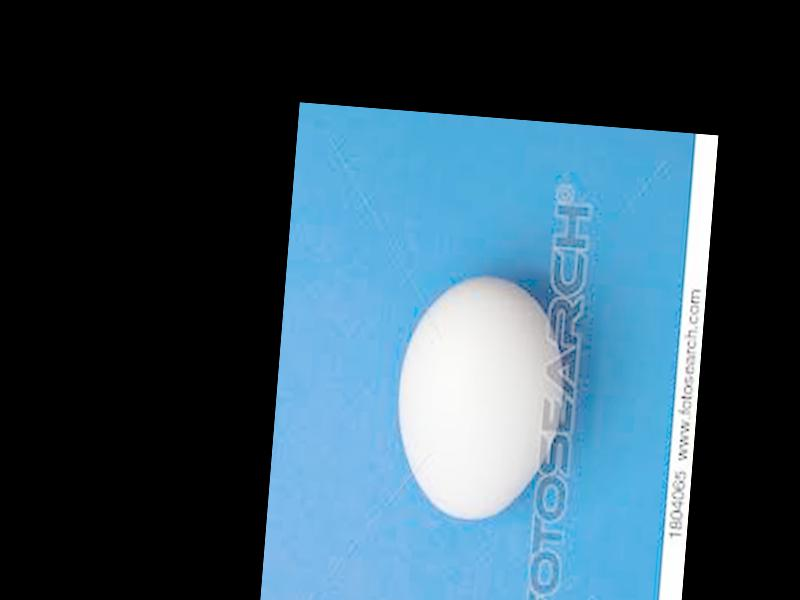Eggs: (390, 271, 576, 525)
